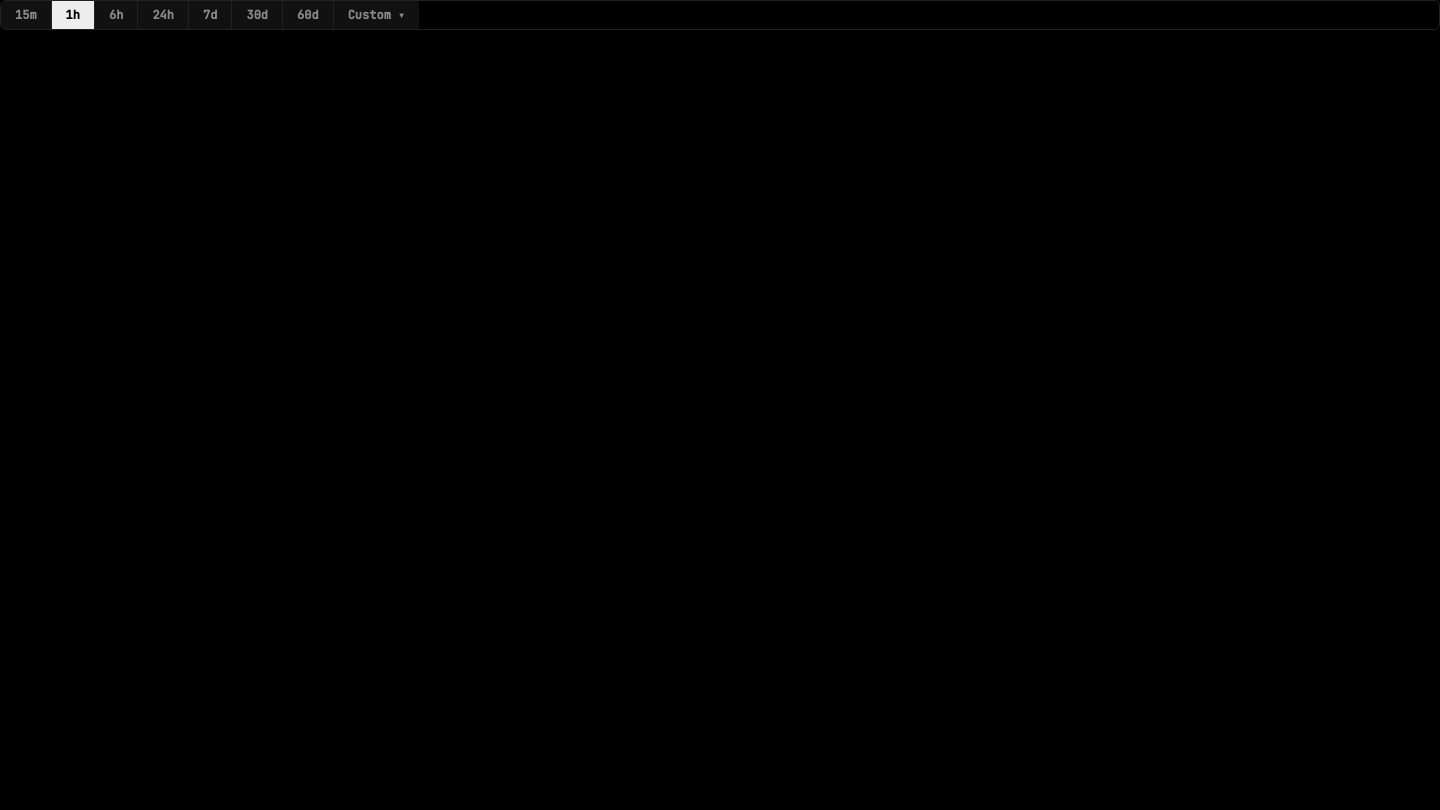
Test case: TimeRangeSelector › disables apply when the custom span is shorter than 60 seconds
Click the button with test id "custom-toggle". click: (376, 15)
box: x1=334 y1=1 x2=419 y2=29
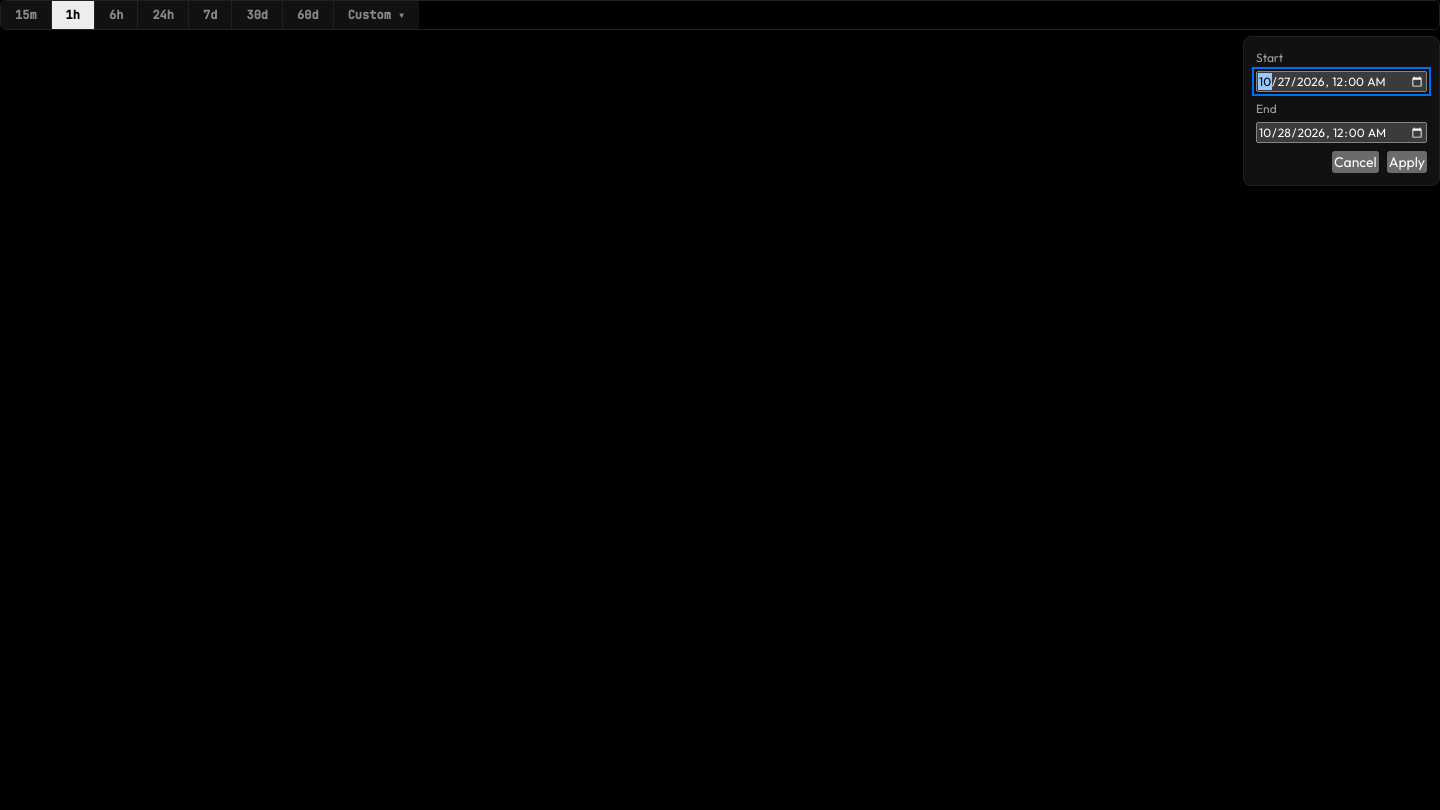
Replace the text in the field with test id "custom-start" with "2026-05-20T09:00:00". click: (1342, 82)
box: x1=1256 y1=71 x2=1427 y2=92
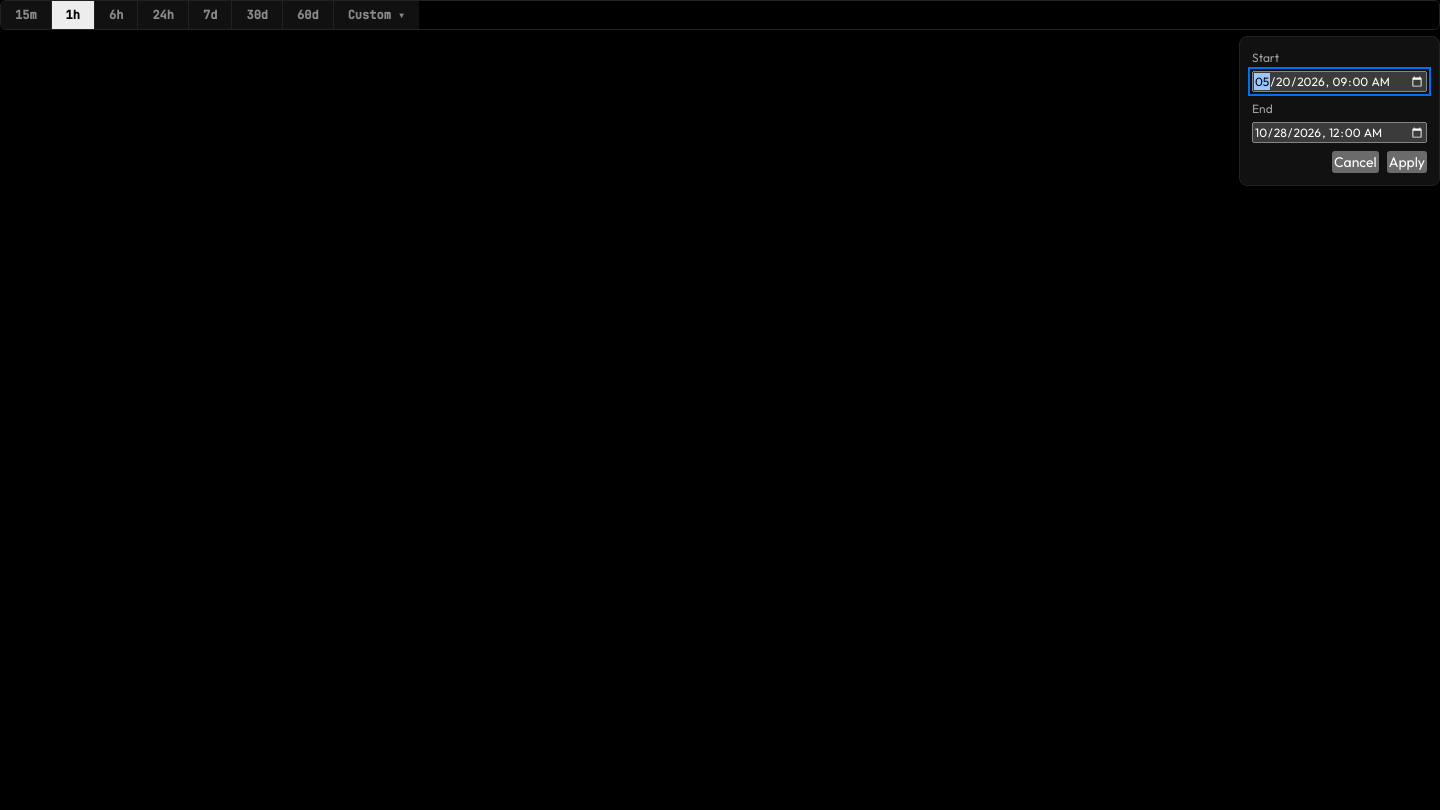
Replace the text in the field with test id "custom-end" with "2026-05-20T09:00:30". click: (1340, 132)
box: x1=1252 y1=122 x2=1427 y2=143
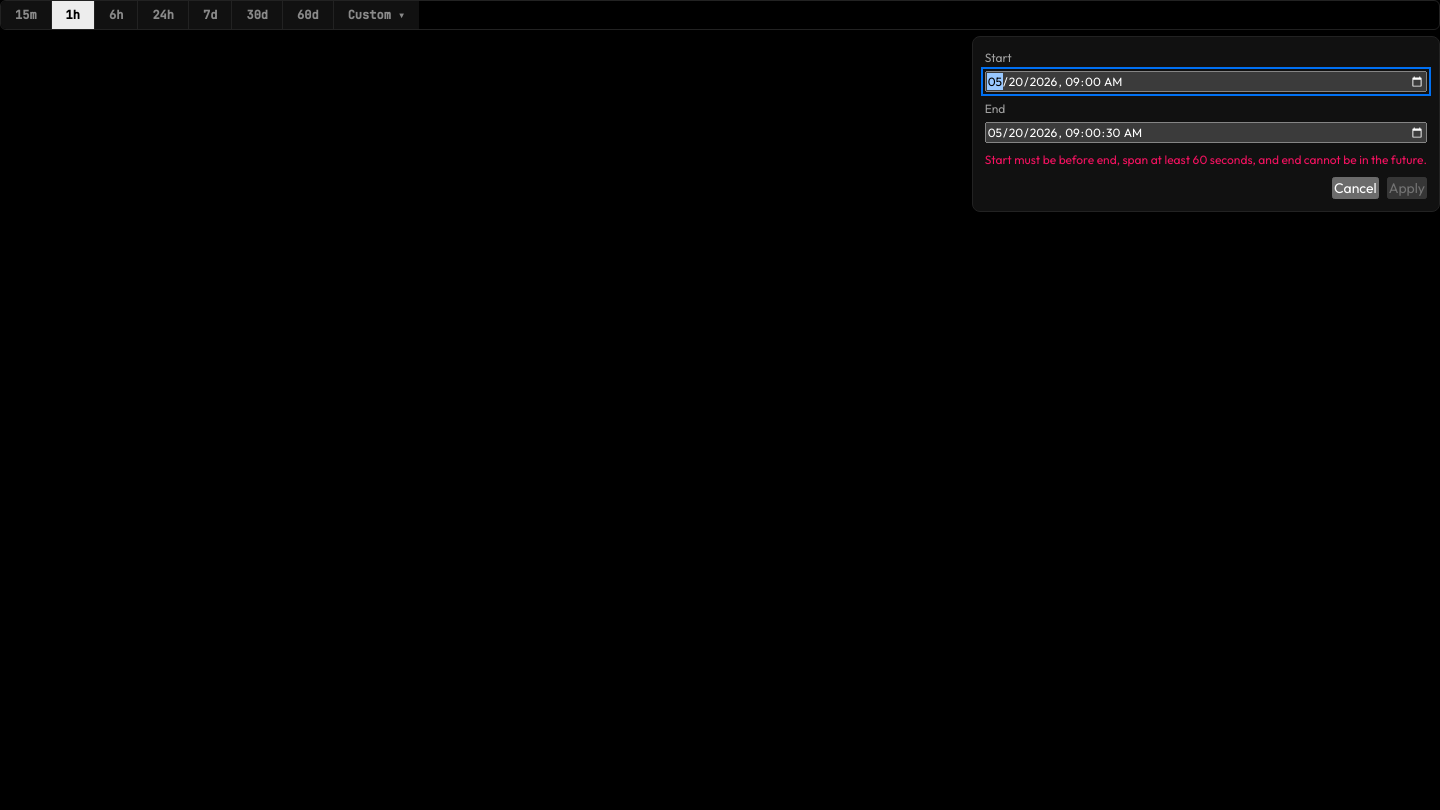
Check: the message shows "span at least 60 seconds", box x1=985 y1=152 x2=1427 y2=167
Check: the button with test id "custom-apply" is disabled, box x1=1387 y1=177 x2=1427 y2=199
